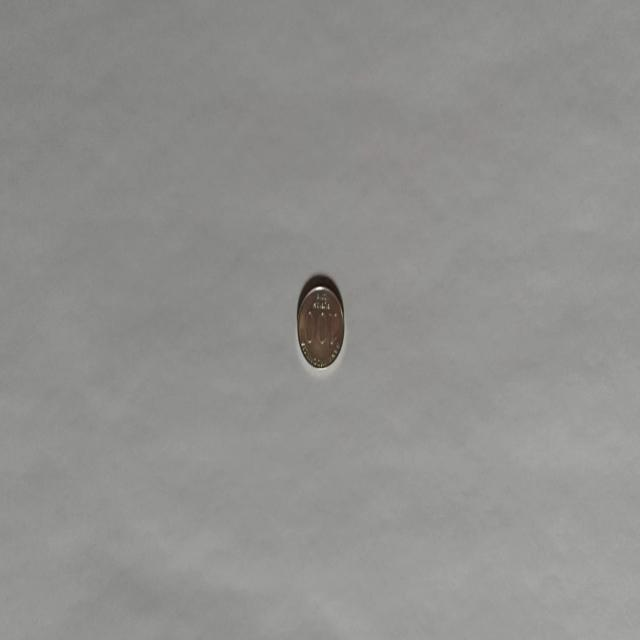seratus rupiah: (296, 276, 345, 372)
